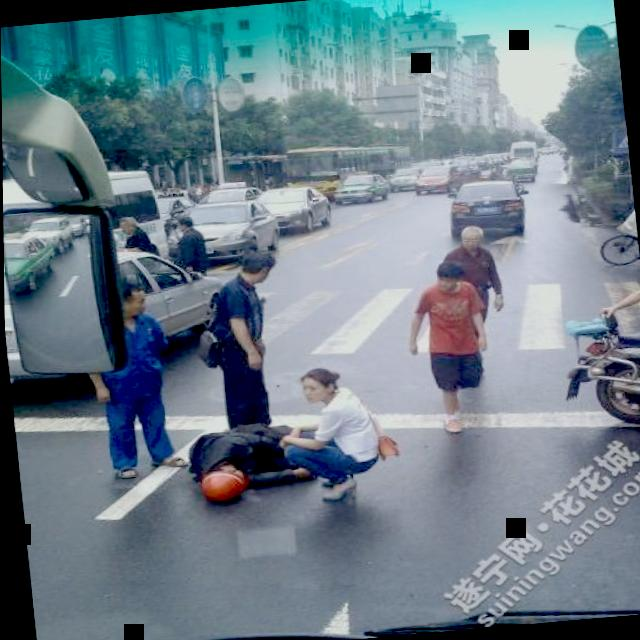Fall-Detected: (164, 403, 344, 509)
